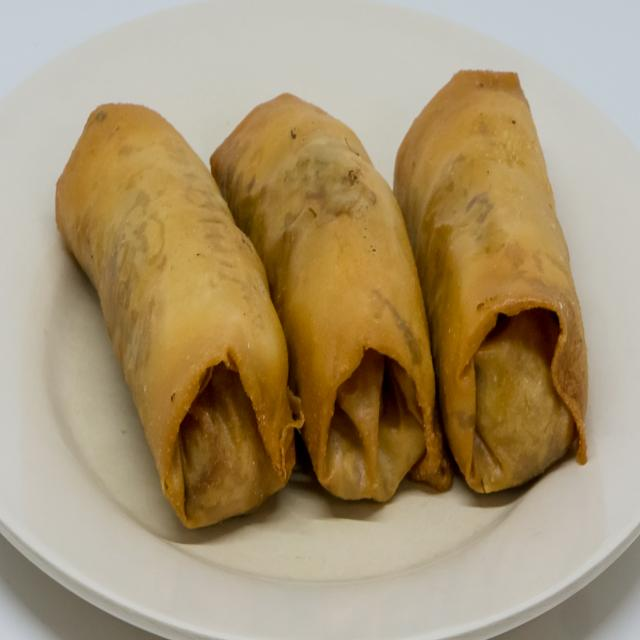Lumpia-Semarang: (42, 48, 606, 554)
